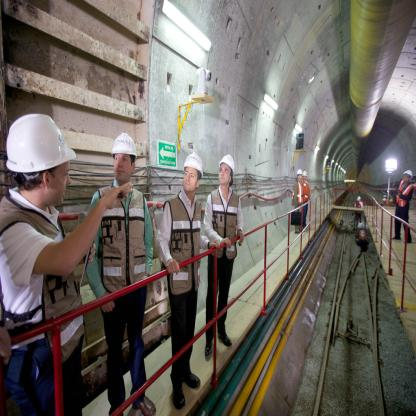Helmet: (7, 114, 70, 210), (110, 130, 138, 160), (183, 151, 204, 179), (219, 154, 234, 178), (403, 169, 412, 179), (296, 168, 302, 176), (302, 170, 306, 176), (357, 196, 361, 200)
